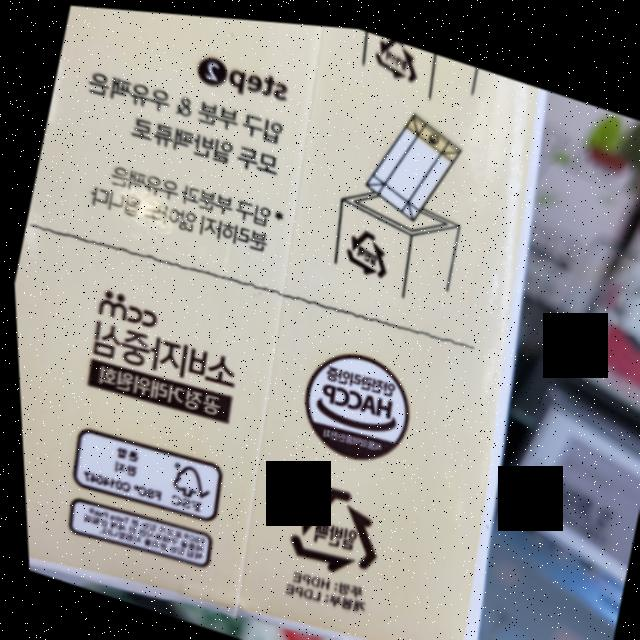NormalPack: (271, 461, 394, 589)
